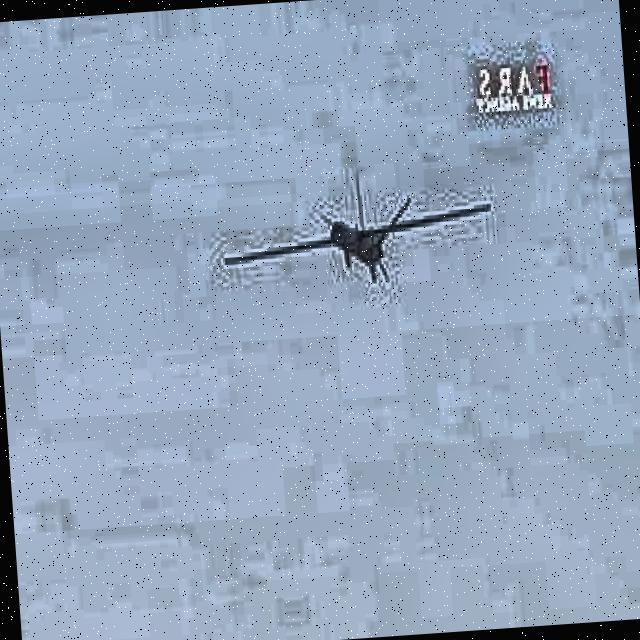iha: (202, 158, 500, 302)
